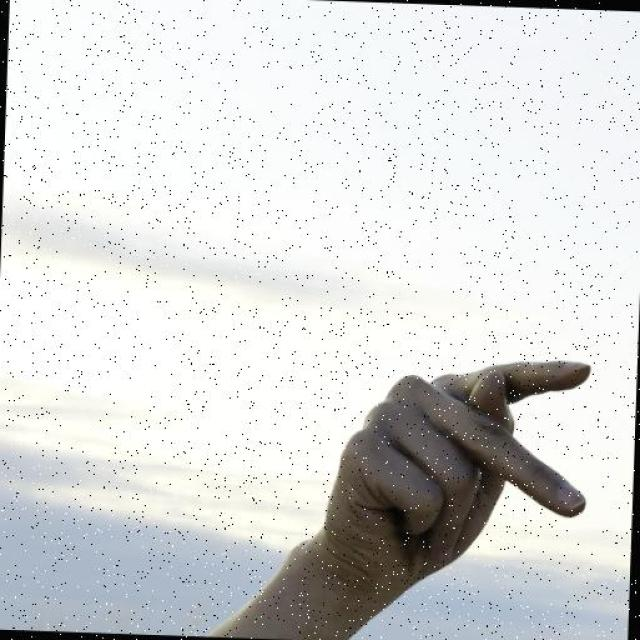P: (299, 344, 599, 612)
